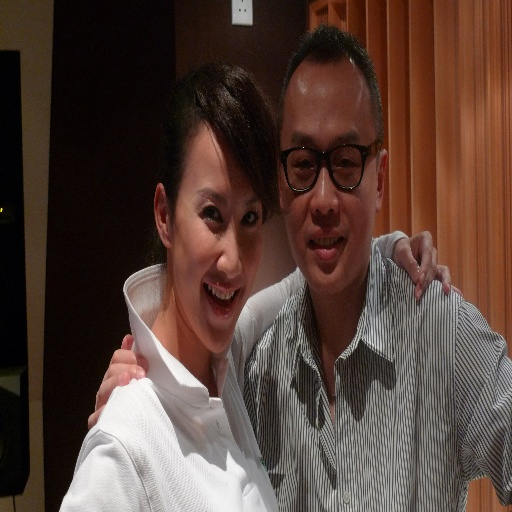hand: (394, 231, 462, 306), (93, 329, 144, 424)
